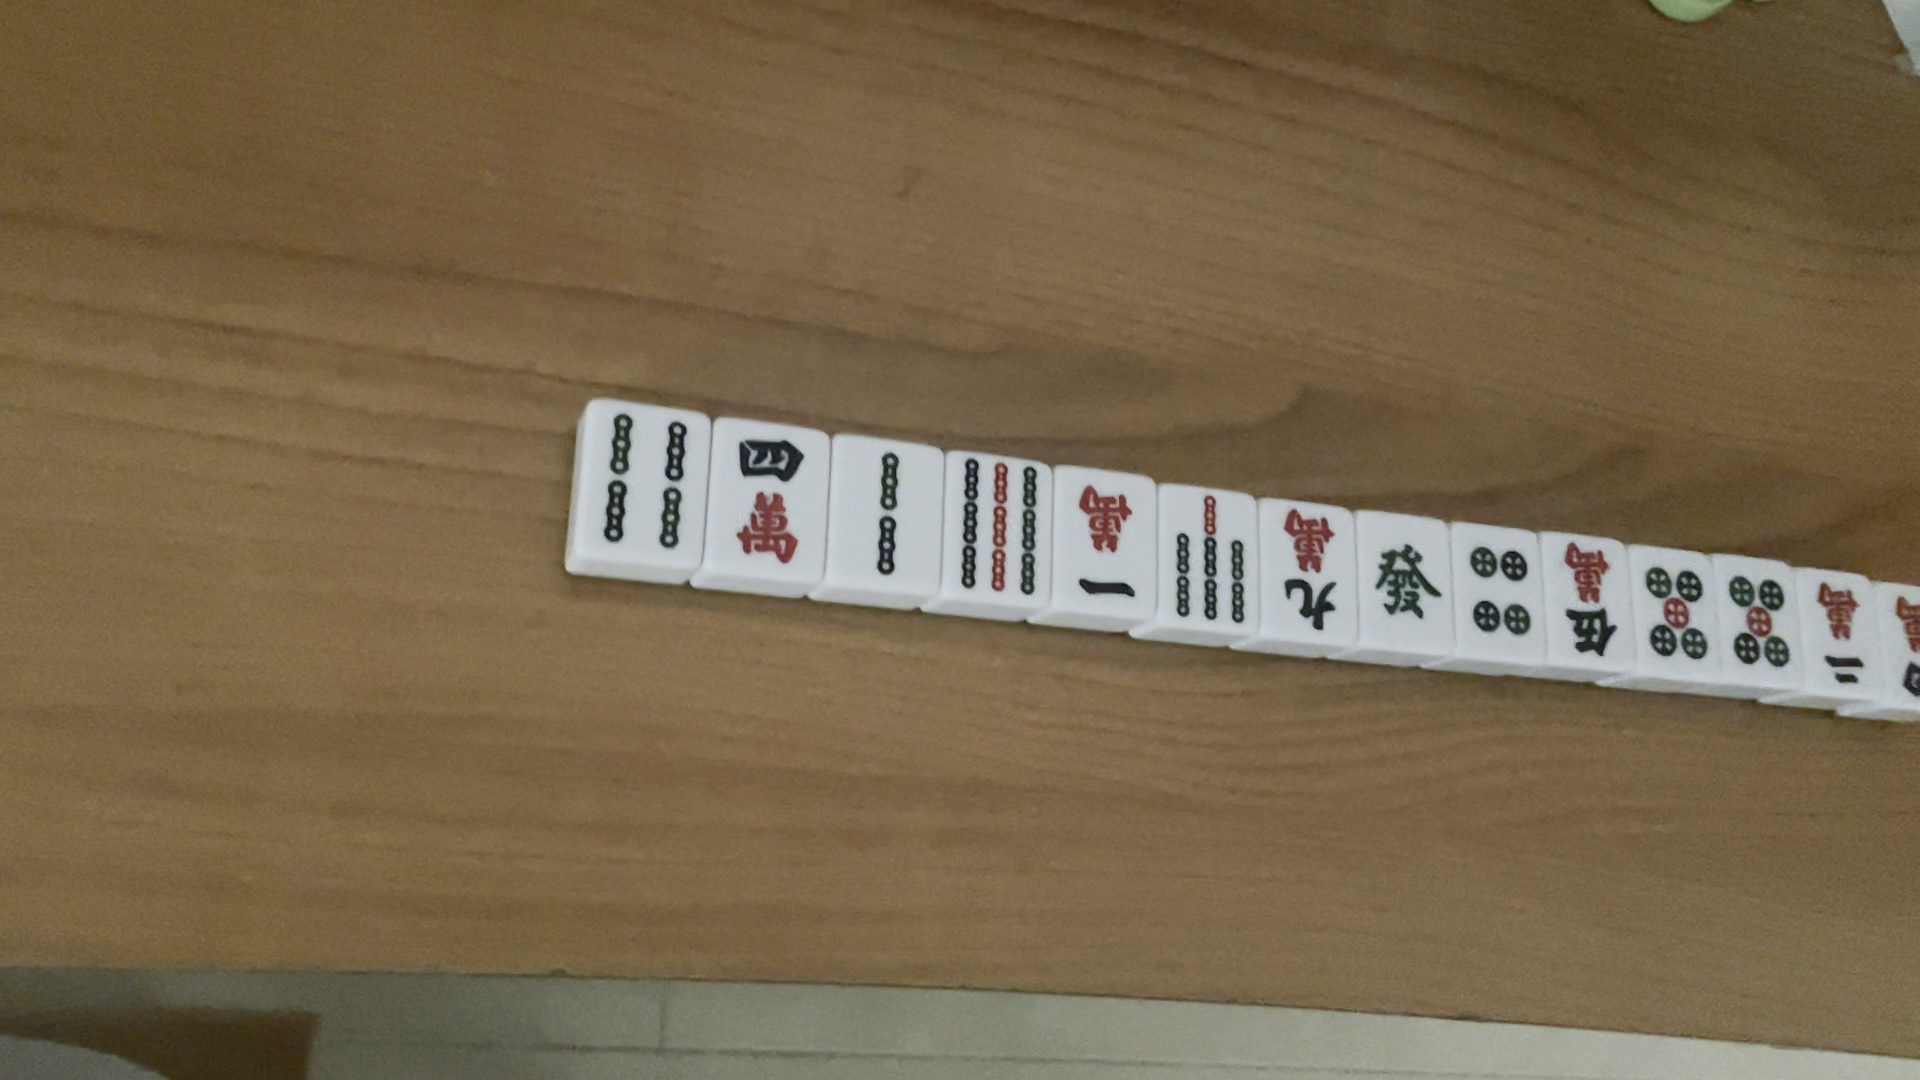b-2: (854, 446, 920, 588)
b-4: (597, 411, 689, 554)
b-9: (961, 456, 1041, 599)
c-1: (1076, 482, 1148, 605)
c-2: (1816, 579, 1864, 688)
c-4: (729, 434, 807, 567)
c-5: (1564, 537, 1619, 664)
c-7: (1167, 488, 1254, 625)
c-9: (1274, 505, 1341, 634)
d-4: (1467, 547, 1535, 637)
d-5: (1635, 554, 1712, 670), (1728, 570, 1794, 677)
honors-green: (1367, 537, 1445, 625)
